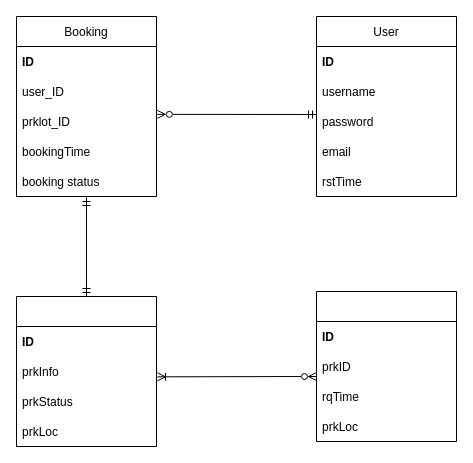
Some shapes in this 473 by 463 pixel diagram are drawn without their labels. The shapes that lost their labels are listed below. From the top down, each one's box as (x1, y1, x2, y2) in pixels, then its label:
(16, 296, 156, 446): Parkinglot
(316, 290, 456, 442): updateEvent
